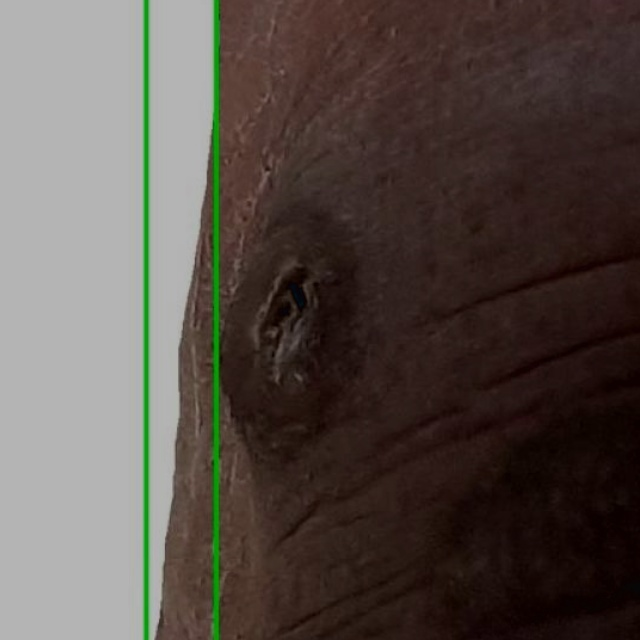Eczema: (146, 0, 639, 639), (0, 0, 216, 639)
